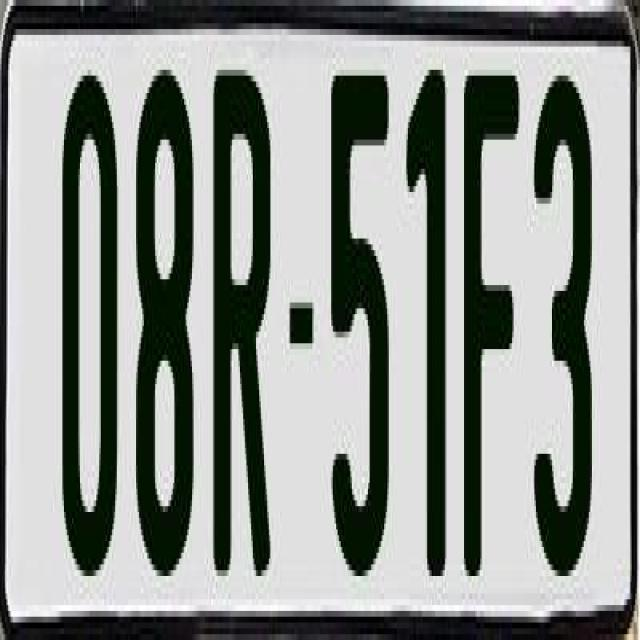0: (60, 70, 121, 582)
1: (403, 70, 445, 594)
3: (530, 58, 588, 559)
5: (328, 70, 386, 576)
8: (131, 64, 189, 582)
F: (459, 58, 515, 559)
